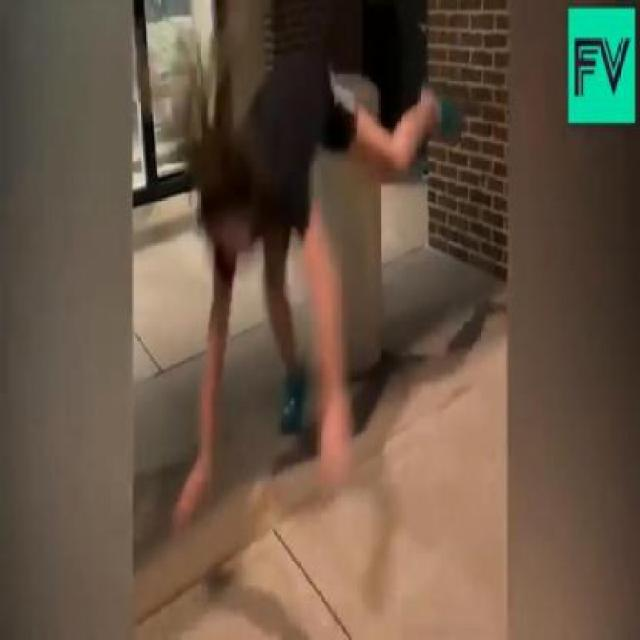fall: (176, 49, 450, 536)
